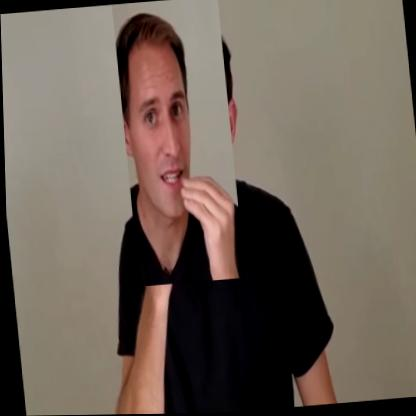Food: (112, 0, 244, 287)
